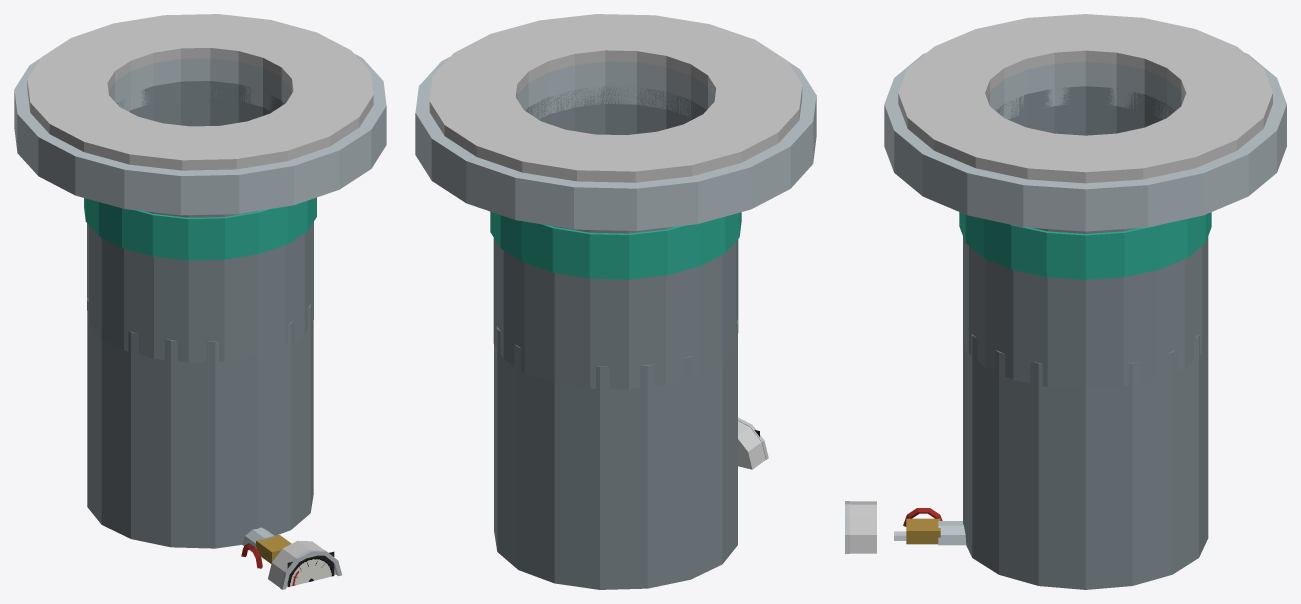
Rendered from cell_92.obj.
3 renders of one model, left to right at view 1: azimuth 30°, elevation 25°; view 2: azimuth 150°, elevation 25°; view 3: azimuth 270°, elevation 25°, orthographic. The views are drawn at different scales.
Bounding box in the file's own units: 0.82 × 1 × 0.9.
